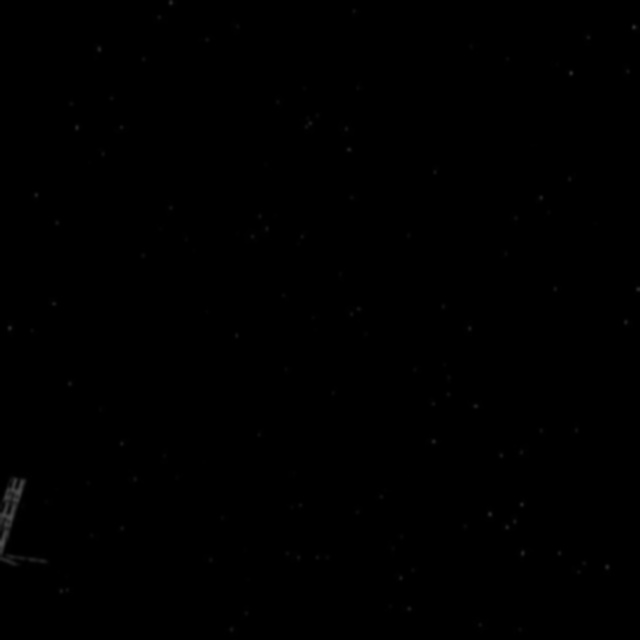satellite: (0, 467, 67, 578)
